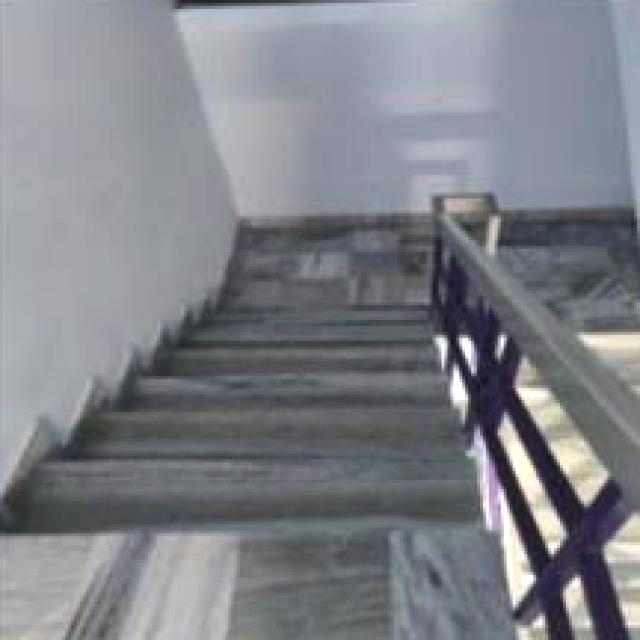downstair: (13, 380, 448, 591)
